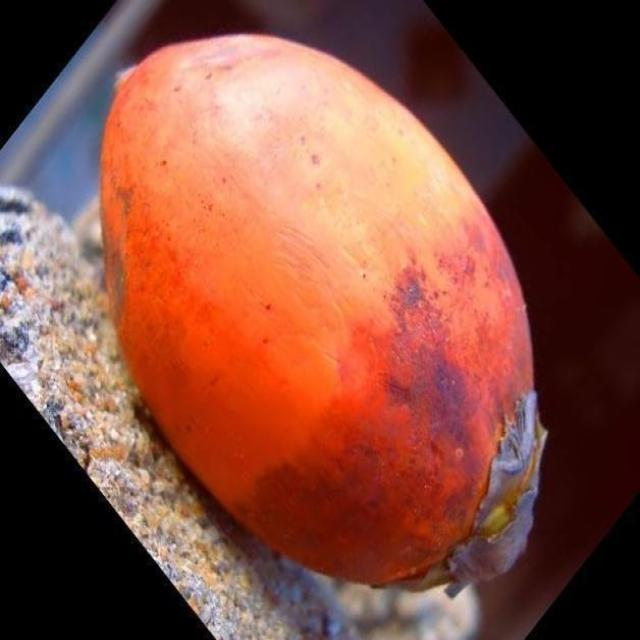good: (98, 35, 548, 592)
